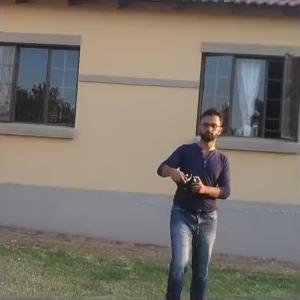follow: (150, 99, 234, 298)
